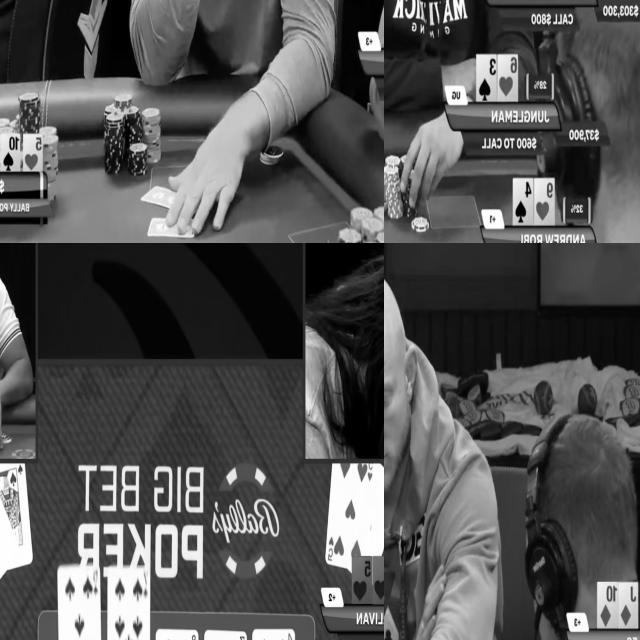10D: (597, 582, 618, 628)
10S: (1, 134, 20, 172)
3S: (477, 56, 496, 101)
4S: (514, 179, 532, 224)
5H: (352, 556, 372, 604), (24, 136, 42, 172)
6H: (499, 56, 517, 100)
9H: (535, 180, 554, 224)
AH: (372, 556, 384, 604)
JD: (618, 582, 639, 628)
